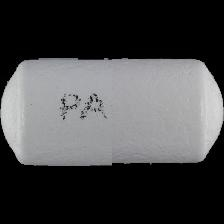64725-0550: (0, 0, 224, 224)
